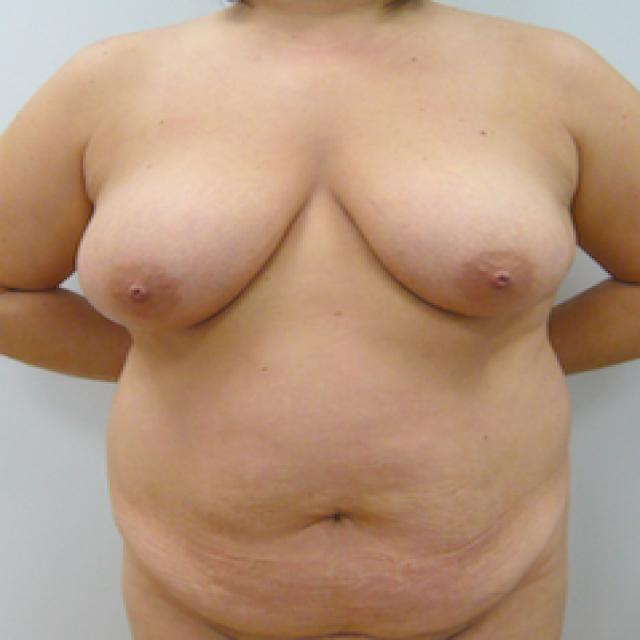Seno ileso: (72, 140, 320, 346), (324, 140, 581, 333)
